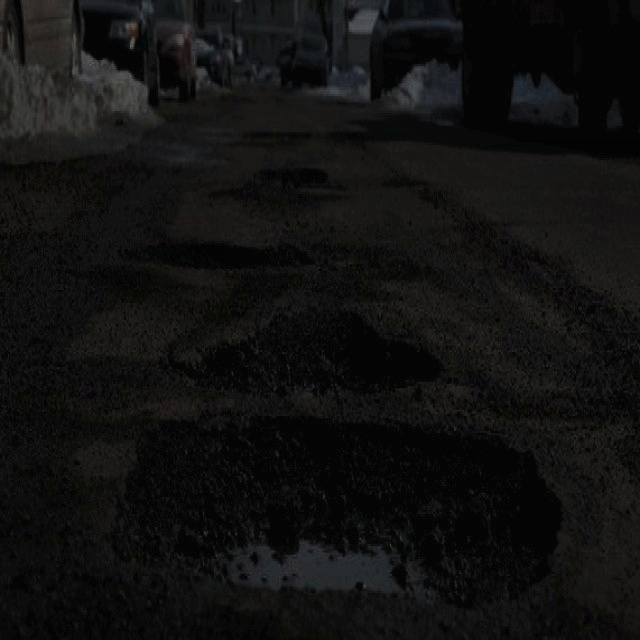Pothole: (110, 410, 568, 608), (162, 301, 444, 399), (119, 237, 313, 269), (258, 160, 328, 188)
